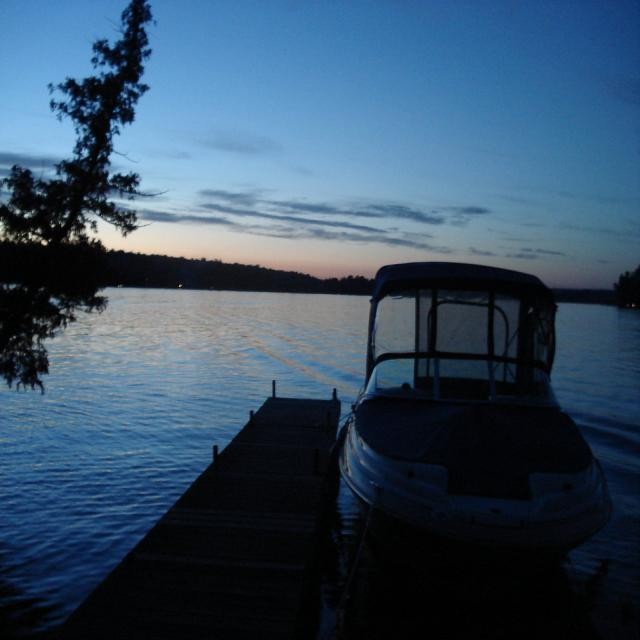Boat: (348, 234, 612, 572)
